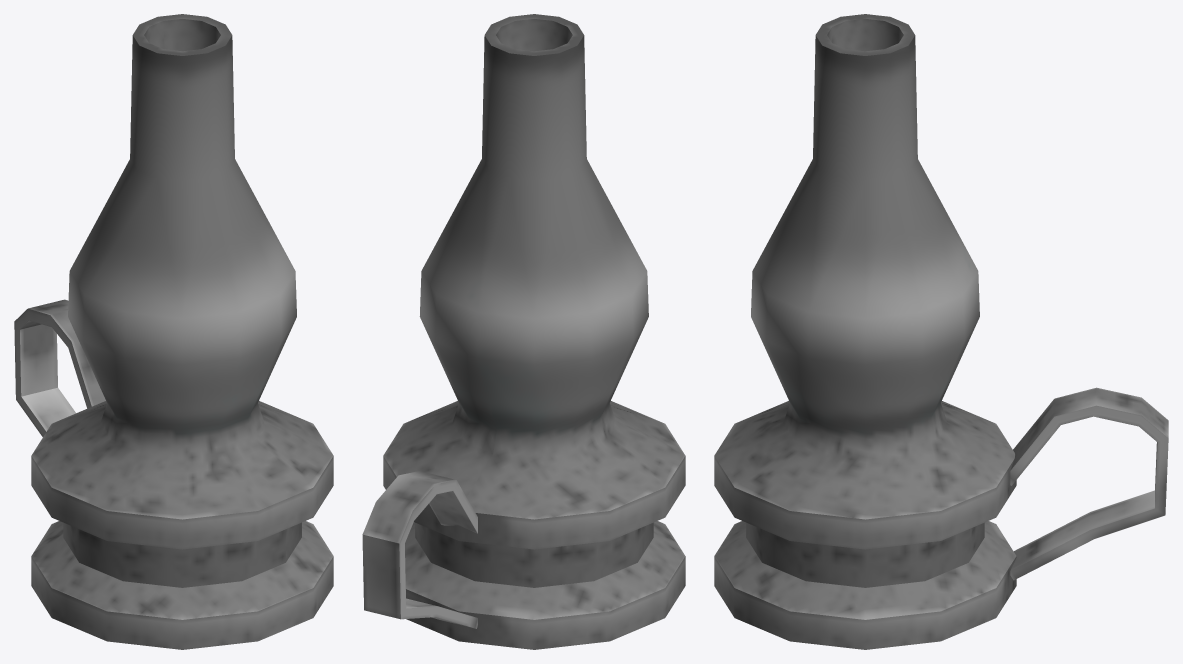
Rendered from LAMP_1_low.fbx.
3 views of the same model, side by side, from view 1: azimuth 30°, elevation 25°; view 2: azimuth 150°, elevation 25°; view 3: azimuth 270°, elevation 25° (orthographic).
Visible parts, largest first — view 1: LAMP_1_low; view 2: LAMP_1_low; view 3: LAMP_1_low.
Boxes of the visible parts, left/top/right/bottom form: LAMP_1_low: left=14, top=14, right=333, bottom=649; LAMP_1_low: left=362, top=14, right=685, bottom=649; LAMP_1_low: left=714, top=14, right=1168, bottom=649.
Size of the model in its own units: 14.96 by 30.09 by 22.49.
